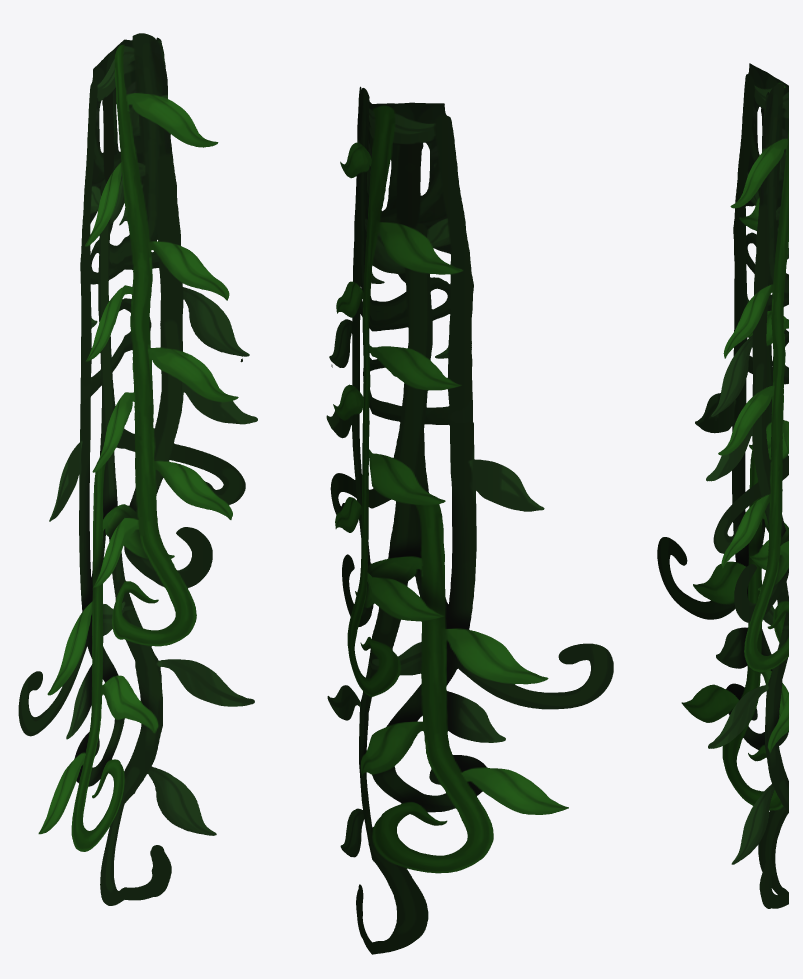
Rendered from sm_env_longcornervines2.fbx.
3 views of the same model, side by side, from view 1: azimuth 30°, elevation 25°; view 2: azimuth 150°, elevation 25°; view 3: azimuth 270°, elevation 25° (orthographic). The views are drawn at different scales.
Parts seen in each view (by area): view 1: pPlane87; view 2: pPlane87; view 3: pPlane87.
Part boxes in pixels (box(x1,y1,x2,y2)): pPlane87: box(18, 33, 257, 905); pPlane87: box(326, 86, 613, 954); pPlane87: box(657, 63, 788, 908).
Size of the model in its own units: 101 by 297 by 43.16.
